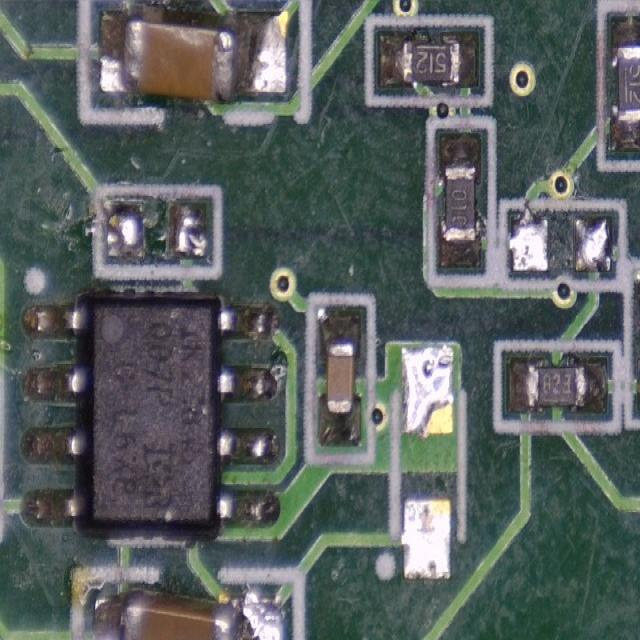Incorrect_installation: (98, 10, 288, 105), (90, 589, 283, 640)
